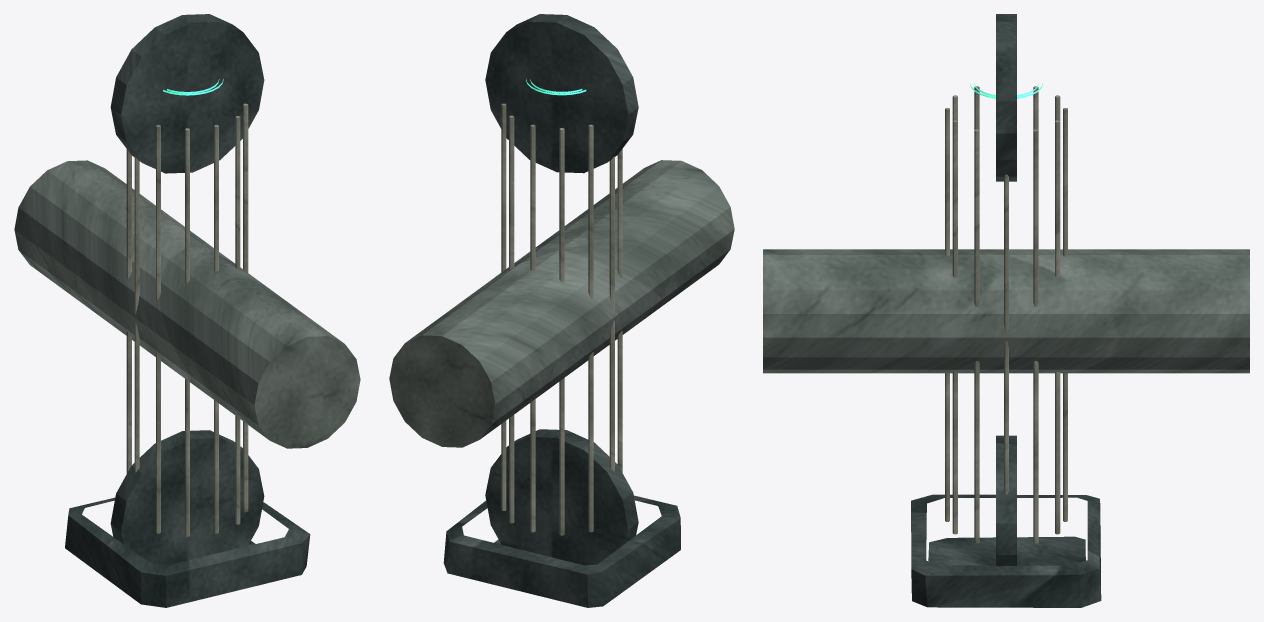
File: 0286_fluted_column_11.glb
3 views of the same model, side by side, from view 1: azimuth 30°, elevation 25°; view 2: azimuth 150°, elevation 25°; view 3: azimuth 270°, elevation 25° (orthographic).
Parts seen in each view (by area): view 1: stone, stone_dark, stone_light; view 2: stone, stone_dark, stone_light; view 3: stone, stone_dark, stone_light.
Part boxes in pixels (bbox=[...]): stone: bbox=[14, 160, 360, 448]; stone_dark: bbox=[65, 14, 310, 607]; stone_light: bbox=[126, 103, 248, 536]; stone: bbox=[389, 160, 734, 447]; stone_dark: bbox=[443, 14, 680, 607]; stone_light: bbox=[501, 103, 622, 535]; stone: bbox=[763, 249, 1249, 373]; stone_dark: bbox=[911, 14, 1101, 607]; stone_light: bbox=[945, 86, 1067, 543].
Bounding box in the file's own units: 1.27 × 4.16 × 3.2.
4 materials, 4 textured.
